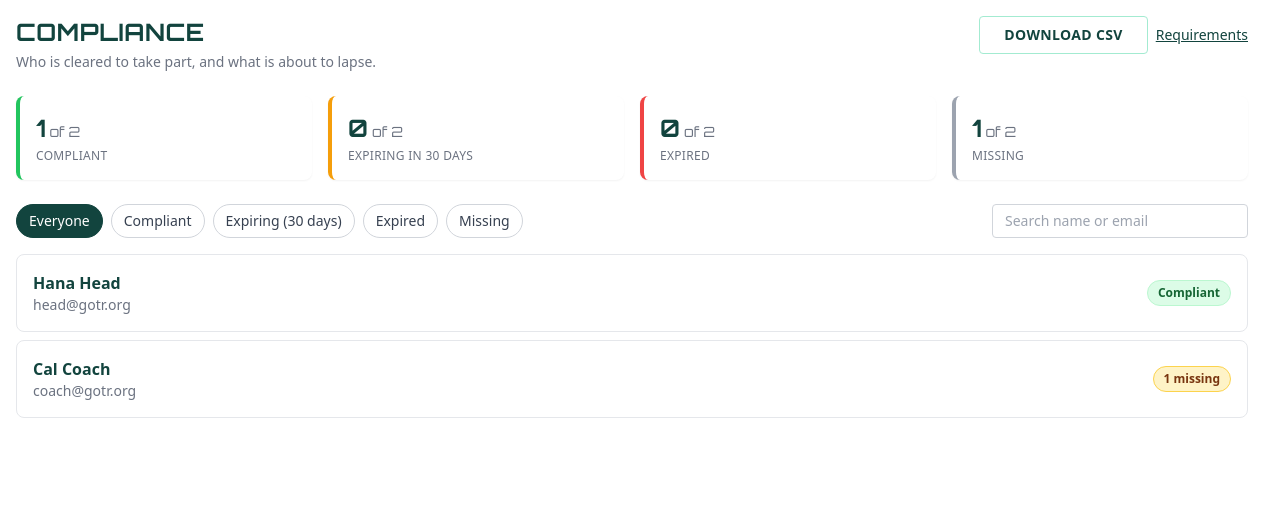
Test: ClubCompliance › the export cap is shown to the person who pressed the button
Expected: the text "Hana Head" is shown, x1=33 y1=272 x2=121 y2=294
Click the button "Download CSV": (1064, 35) x1=979 y1=16 x2=1148 y2=54
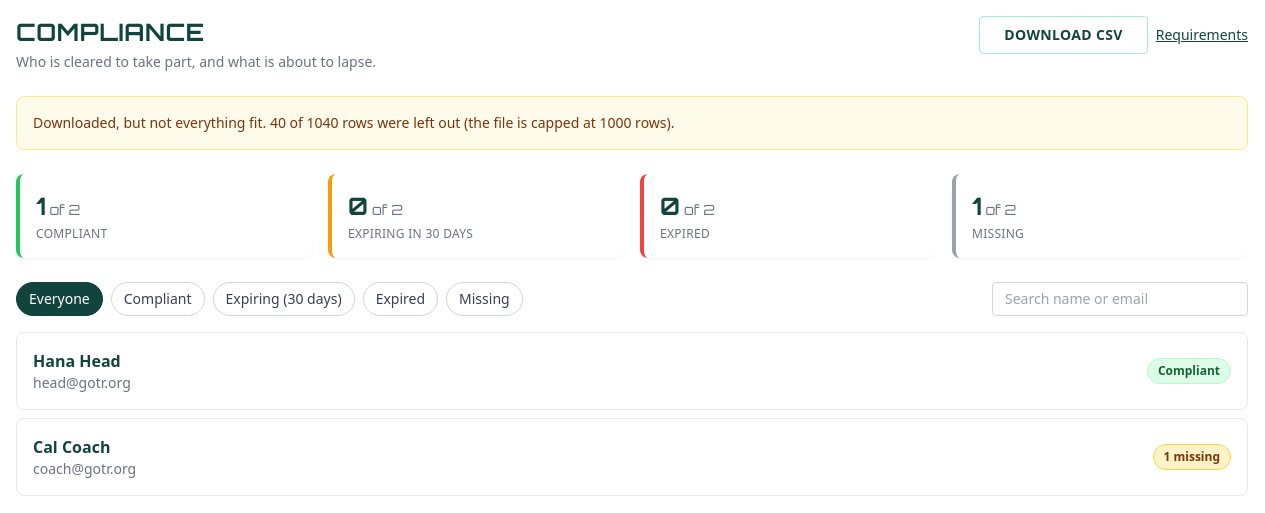
Now the text "not everything fit" is shown, box x1=33 y1=113 x2=674 y2=132
